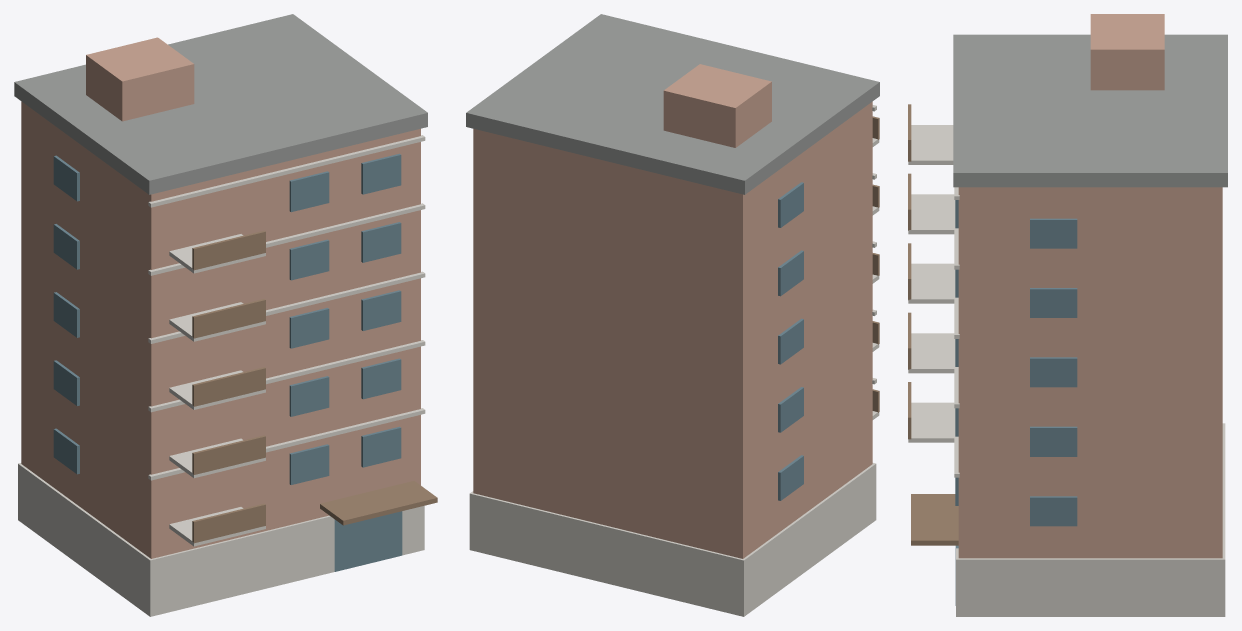
The model's file is building_residential_d.glb.
The picture shows the model from 3 angles, left to right: view 1: azimuth 30°, elevation 25°; view 2: azimuth 150°, elevation 25°; view 3: azimuth 270°, elevation 25°; orthographic projection.
Parts seen in each view (by area): view 1: fm_res_body, fm_res_parapet, fm_res_base, fm_res_stair, fm_res_entrance, fm_res_awning, fm_res_band_4, fm_res_rail_0, fm_res_rail_3, fm_res_rail_4, fm_res_rail_2, fm_res_rail_1 (+24 smaller); view 2: fm_res_body, fm_res_parapet, fm_res_base, fm_res_stair, fm_res_side_l_1, fm_res_side_l_3, fm_res_side_l_4, fm_res_side_l_0, fm_res_side_l_2; view 3: fm_res_body, fm_res_parapet, fm_res_base, fm_res_stair, fm_res_awning, fm_res_slab_1, fm_res_slab_2, fm_res_slab_3, fm_res_slab_0, fm_res_slab_4, fm_res_side_r_0, fm_res_side_r_1 (+3 smaller).
Part boxes in pixels (x1,y1,x2,y2): fm_res_body: [21, 101, 420, 558]; fm_res_parapet: [14, 14, 427, 194]; fm_res_base: [18, 463, 424, 616]; fm_res_stair: [86, 37, 194, 121]; fm_res_entrance: [334, 511, 402, 571]; fm_res_awning: [320, 481, 437, 525]; fm_res_band_4: [148, 135, 425, 207]; fm_res_rail_0: [192, 503, 265, 543]; fm_res_rail_3: [192, 299, 265, 338]; fm_res_rail_4: [192, 230, 265, 270]; fm_res_rail_2: [192, 367, 265, 406]; fm_res_rail_1: [192, 435, 265, 474]; fm_res_body: [473, 101, 872, 558]; fm_res_parapet: [466, 14, 879, 194]; fm_res_base: [469, 463, 876, 616]; fm_res_stair: [663, 64, 771, 147]; fm_res_side_l_1: [778, 387, 803, 432]; fm_res_side_l_3: [778, 250, 803, 296]; fm_res_side_l_4: [778, 182, 803, 227]; fm_res_side_l_0: [778, 455, 803, 500]; fm_res_side_l_2: [778, 318, 803, 364]; fm_res_body: [958, 187, 1222, 558]; fm_res_parapet: [953, 34, 1227, 187]; fm_res_base: [956, 423, 1225, 616]; fm_res_stair: [1090, 14, 1164, 90]; fm_res_awning: [911, 494, 958, 545]; fm_res_slab_1: [908, 333, 954, 373]; fm_res_slab_2: [908, 263, 954, 303]; fm_res_slab_3: [908, 194, 954, 234]; fm_res_slab_0: [908, 402, 954, 442]; fm_res_slab_4: [908, 125, 953, 164]; fm_res_side_r_0: [1030, 496, 1077, 526]; fm_res_side_r_1: [1030, 426, 1077, 456].
Bounding box in the file's own units: 12.4 × 20.3 × 12.11.
